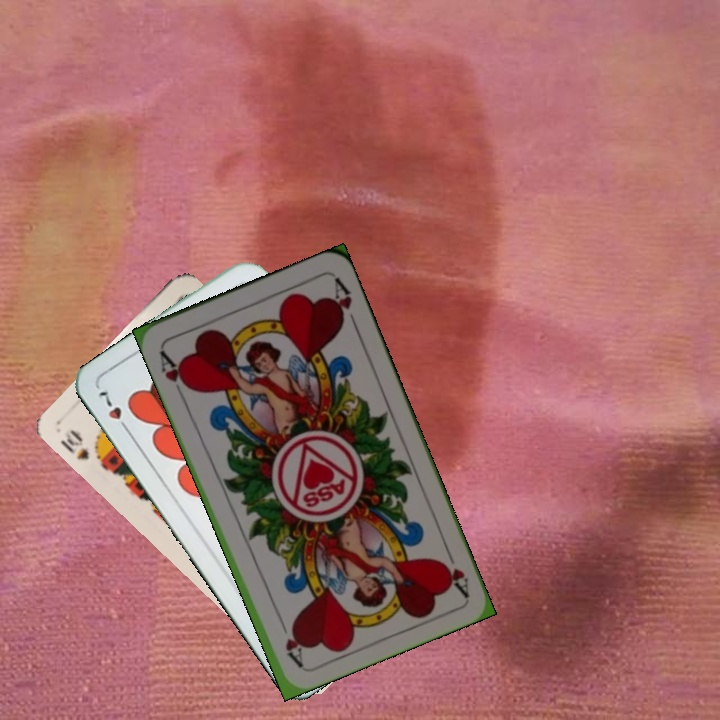H7: (94, 387, 133, 437)
HA: (155, 346, 194, 401), (436, 542, 472, 598)
S10: (56, 425, 106, 469)
